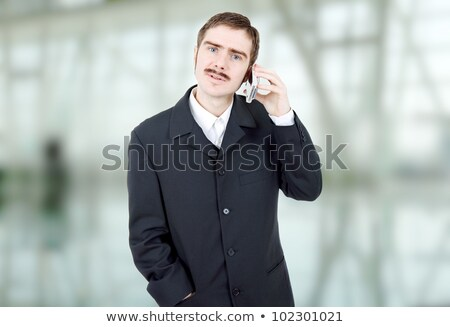phone: (238, 56, 269, 103)
talk: (196, 39, 285, 108)
